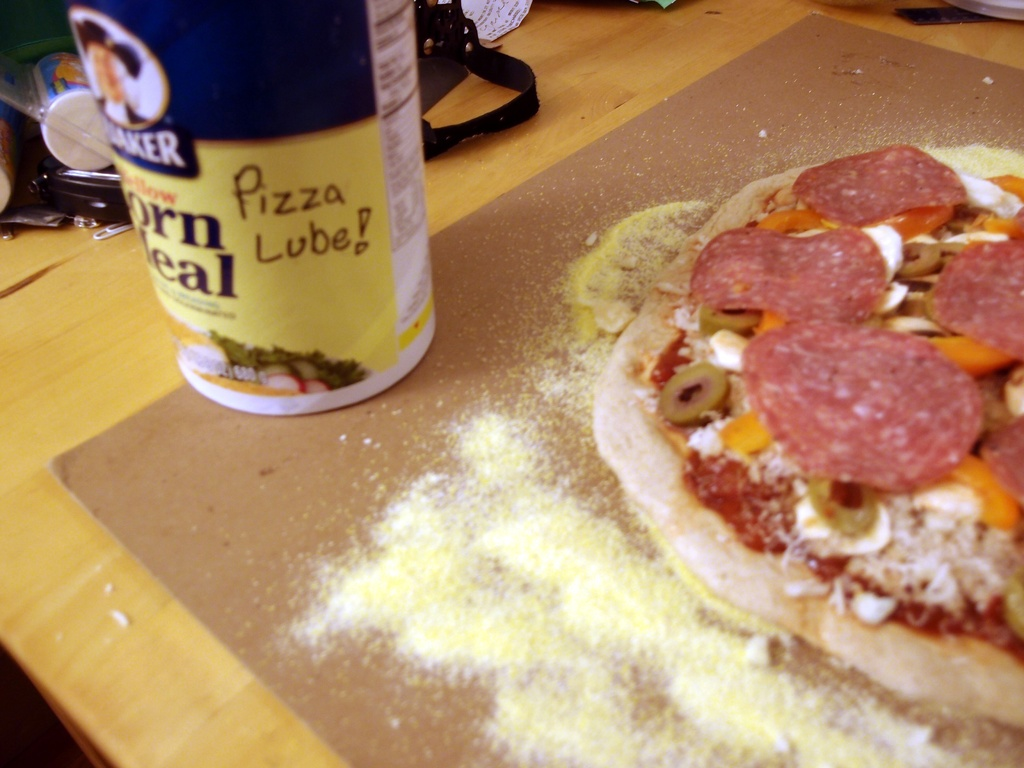Pizza: (572, 125, 1004, 737)
